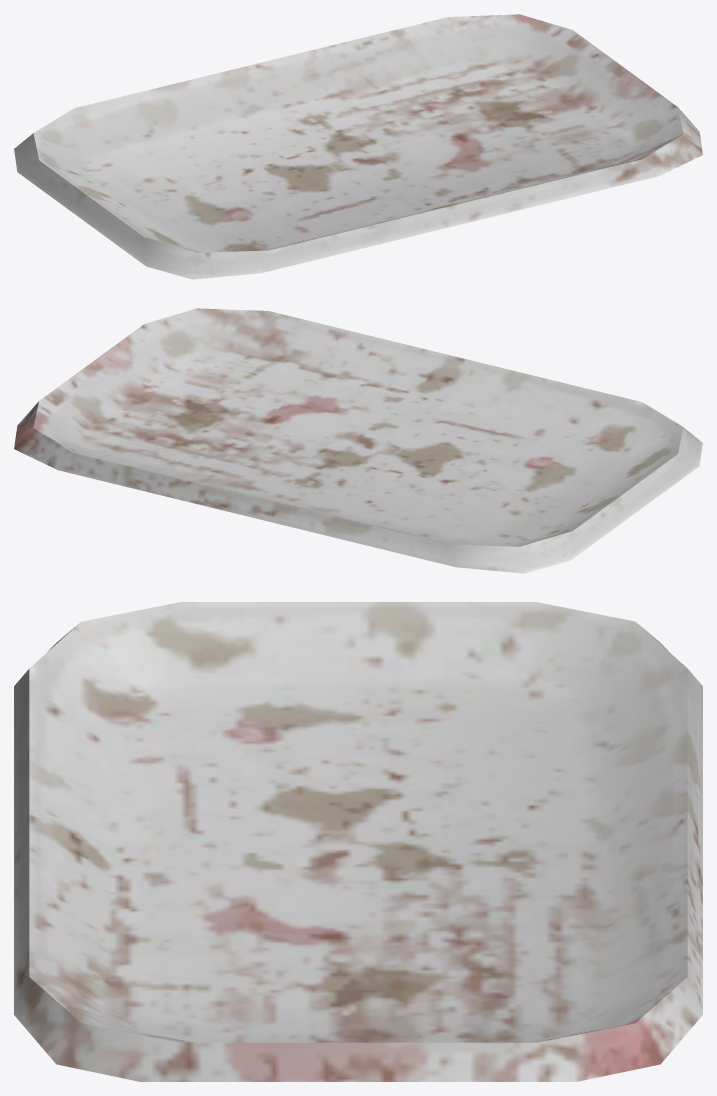
File: SM_TrashScrapCase_04_B.fbx
3 views of the same model, one above another, from view 1: azimuth 30°, elevation 25°; view 2: azimuth 150°, elevation 25°; view 3: azimuth 270°, elevation 25° (orthographic). The views are drawn at different scales.
Visible parts, largest first — view 1: SM_TrashScrapCase_04_B; view 2: SM_TrashScrapCase_04_B; view 3: SM_TrashScrapCase_04_B.
Part boxes in pixels (x1=…): SM_TrashScrapCase_04_B: x1=14, y1=14, x2=702, y2=279; SM_TrashScrapCase_04_B: x1=14, y1=308, x2=702, y2=573; SM_TrashScrapCase_04_B: x1=14, y1=602, x2=702, y2=1081.
Bounding box in the file's own units: 32.96 × 21 × 1.22.
1 material, 1 textured.
